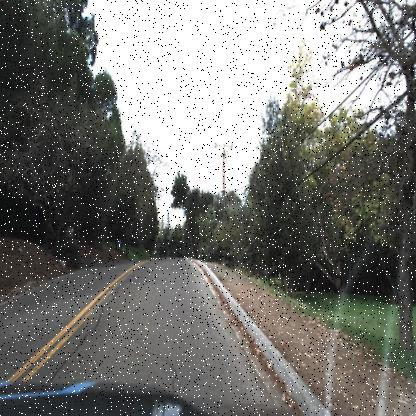car: (149, 244, 159, 264)
